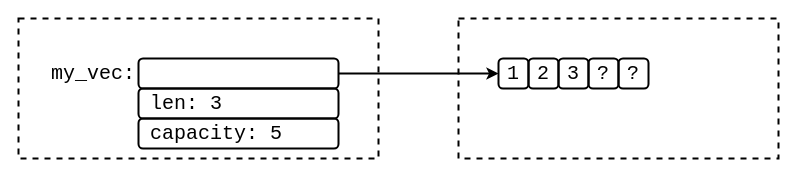
This 796x176 diagram has some shape labels left out. Each missing label, with the box of its shape:
Heap: (457, 17, 779, 159)
pointer: %addr%: (137, 57, 339, 89)
Stack: (17, 17, 379, 159)
